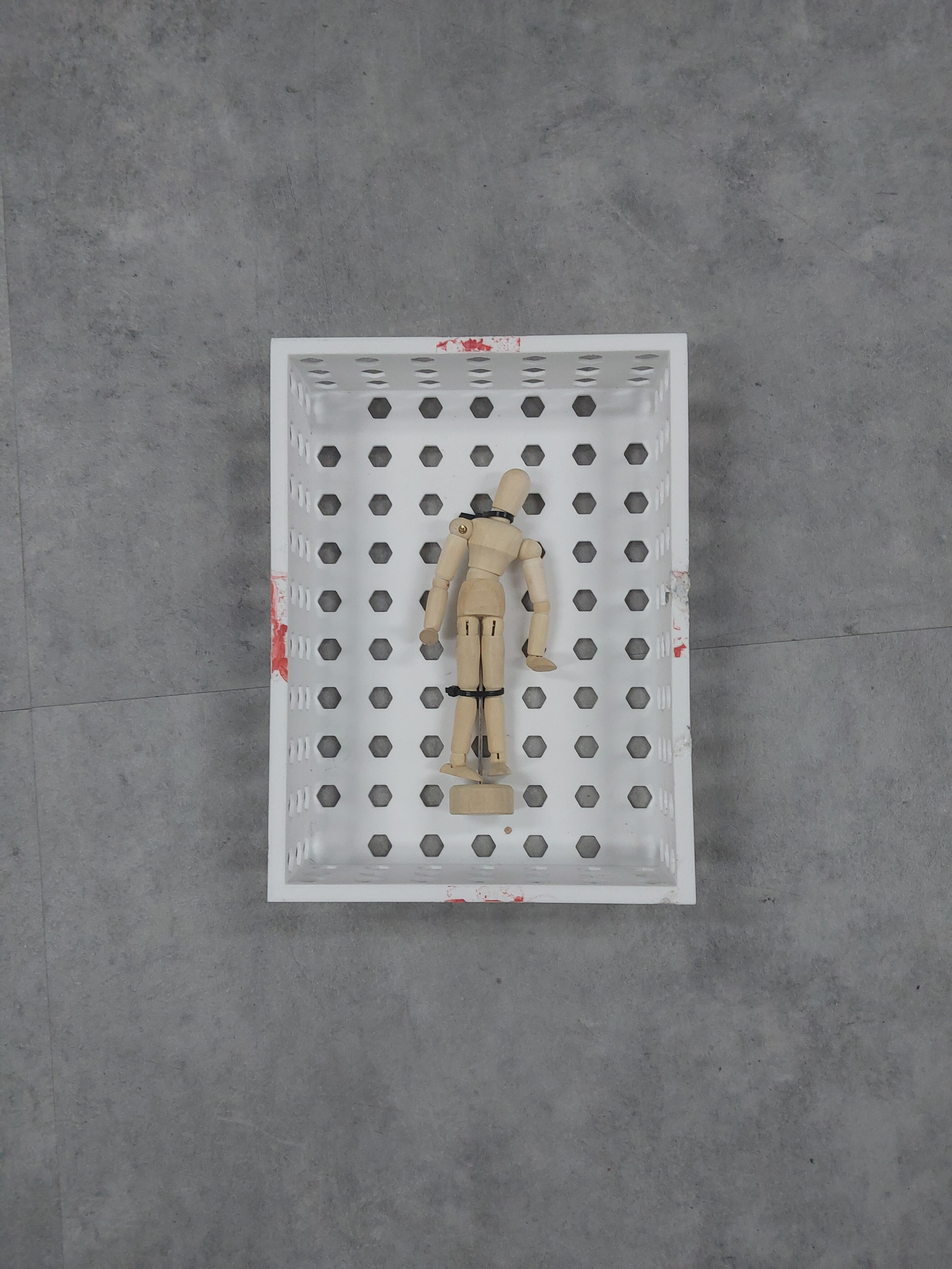basket: (260, 329, 706, 915)
mannequin: (417, 466, 562, 823)
